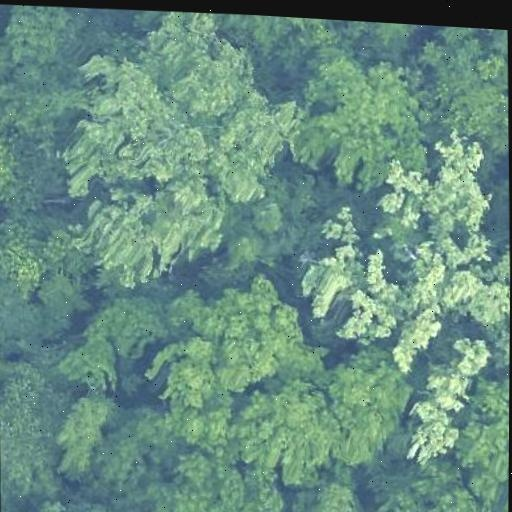tree-top: (58, 4, 294, 291), (164, 267, 339, 475), (305, 220, 511, 360), (365, 125, 500, 267), (293, 48, 425, 182), (391, 332, 499, 460), (324, 344, 415, 476), (410, 30, 509, 147), (236, 381, 339, 486), (153, 441, 289, 512), (360, 446, 493, 512), (0, 368, 66, 498), (456, 358, 510, 512), (49, 386, 115, 490), (0, 3, 82, 69), (96, 284, 163, 361), (299, 468, 376, 512)
